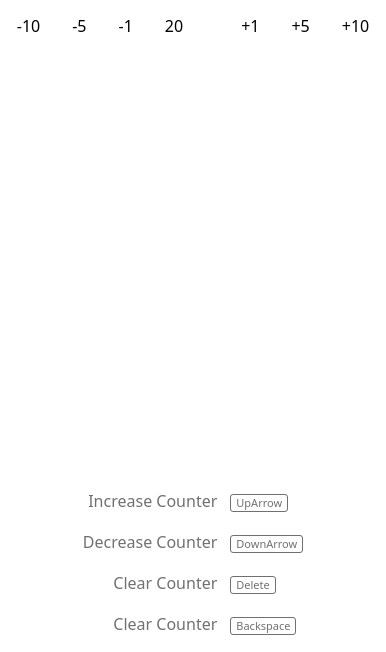
Test: VEditor › update inspector event
The image size is (386, 652).
Click the button "-10": coordinates (29, 26) [17, 15, 40, 37]
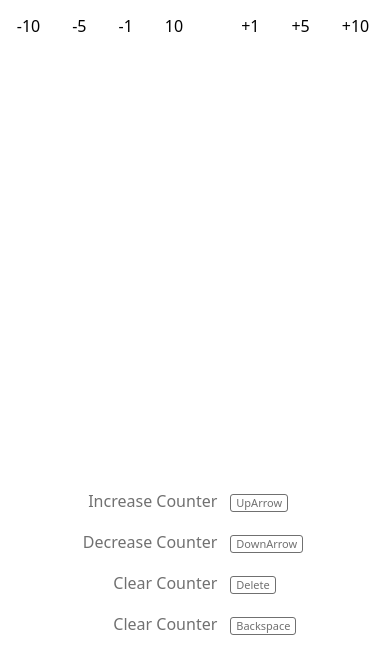
Check: the text "10" is shown, box [165, 15, 183, 37]
